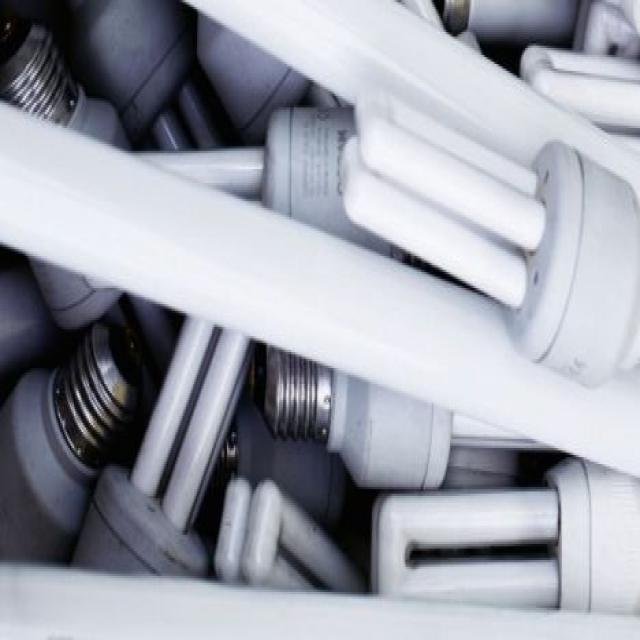electronic: (0, 0, 639, 622), (0, 313, 145, 562), (440, 0, 582, 43)
